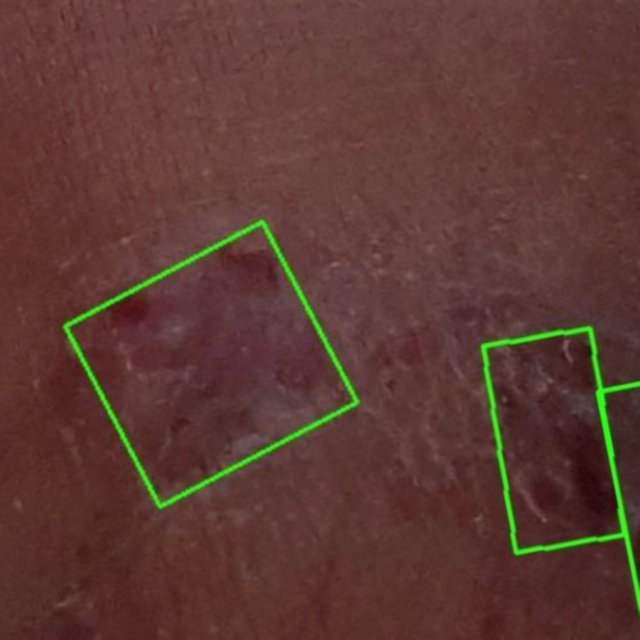Contact Dermatitis: (65, 221, 358, 506), (482, 327, 625, 551)
